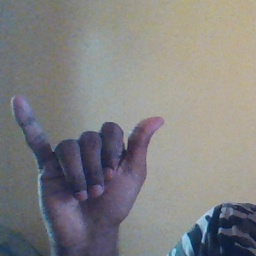J: (11, 92, 168, 232)
